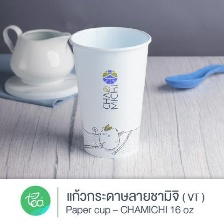paper_cup: (65, 20, 154, 162)
